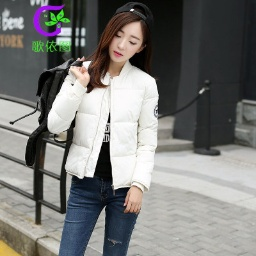face: (93, 12, 150, 70)
